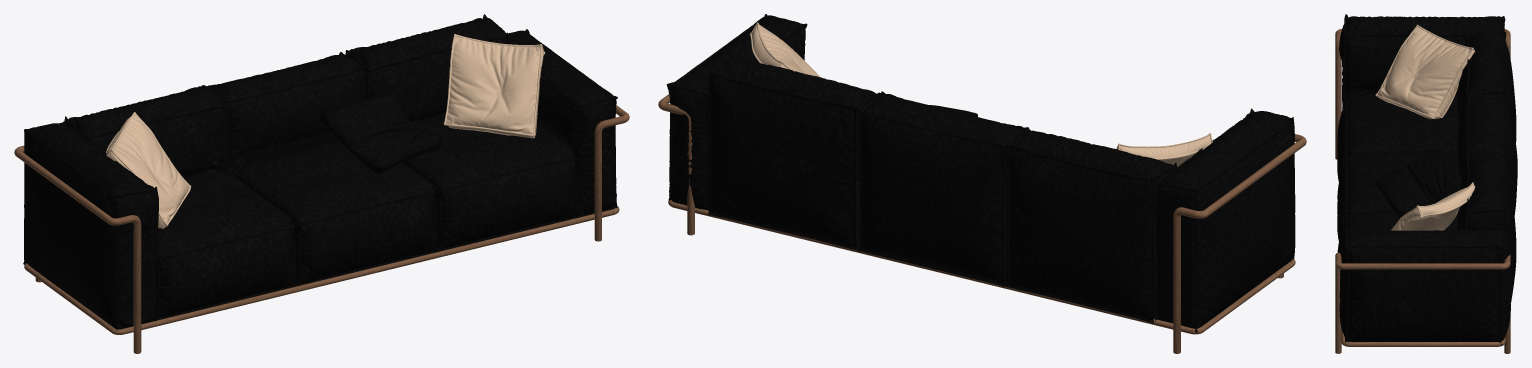
The model's file is Sofa_Straight_4.glb.
The picture shows the model from 3 angles, left to right: view 1: azimuth 30°, elevation 25°; view 2: azimuth 150°, elevation 25°; view 3: azimuth 270°, elevation 25°; orthographic projection. The views are drawn at different scales.
Parts seen in each view (by area): view 1: mint0267; view 2: mint0267; view 3: mint0267.
Boxes of the visible parts, x1=… form: mint0267: x1=14, y1=14, x2=629, y2=353; mint0267: x1=658, y1=14, x2=1306, y2=353; mint0267: x1=1335, y1=14, x2=1517, y2=353.
Bounding box in the file's own units: 2.62 × 0.791 × 0.9172.
Materials: 4 (3 with a texture image).
